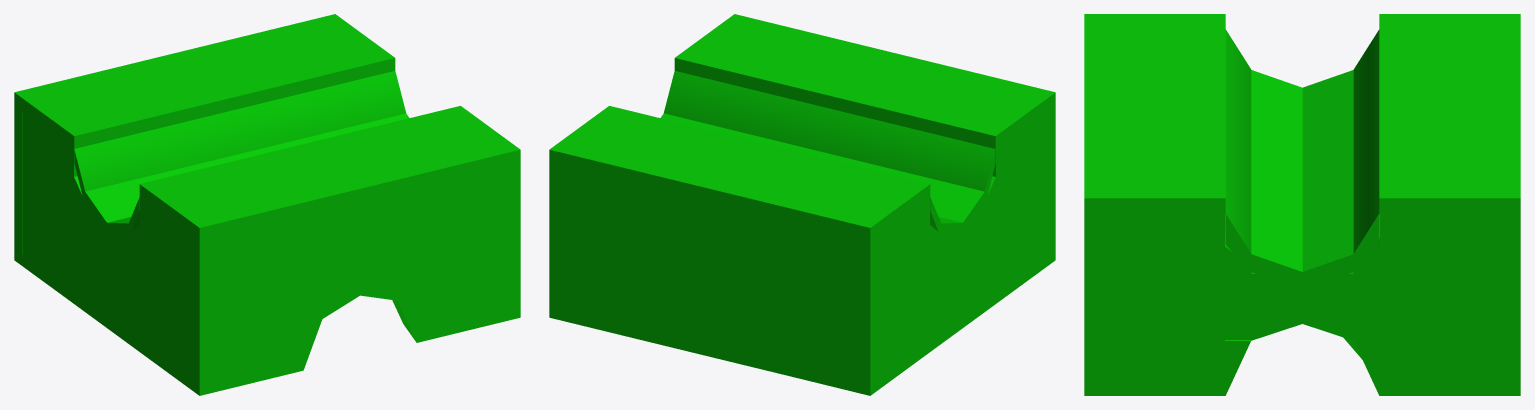
The model's file is UCXKugelbahn.36.fbx.
3 renders of one model, left to right at view 1: azimuth 30°, elevation 25°; view 2: azimuth 150°, elevation 25°; view 3: azimuth 270°, elevation 25°, orthographic. The views are drawn at different scales.
Visible parts, largest first — view 1: UCX_Kugelbahn.36_low; view 2: UCX_Kugelbahn.36_low; view 3: UCX_Kugelbahn.36_low.
Boxes of the visible parts, left/top/right/bottom form: UCX_Kugelbahn.36_low: left=14, top=14, right=520, bottom=395; UCX_Kugelbahn.36_low: left=549, top=14, right=1055, bottom=395; UCX_Kugelbahn.36_low: left=1084, top=14, right=1520, bottom=395.
Size of the model in its own units: 0.05 by 0.025 by 0.05.
